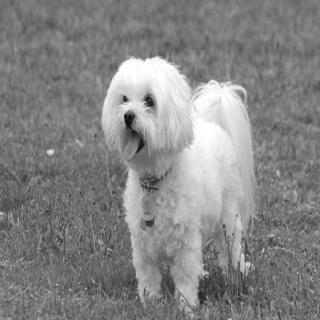dog: (101, 48, 197, 179)
nose: (120, 107, 138, 130)
